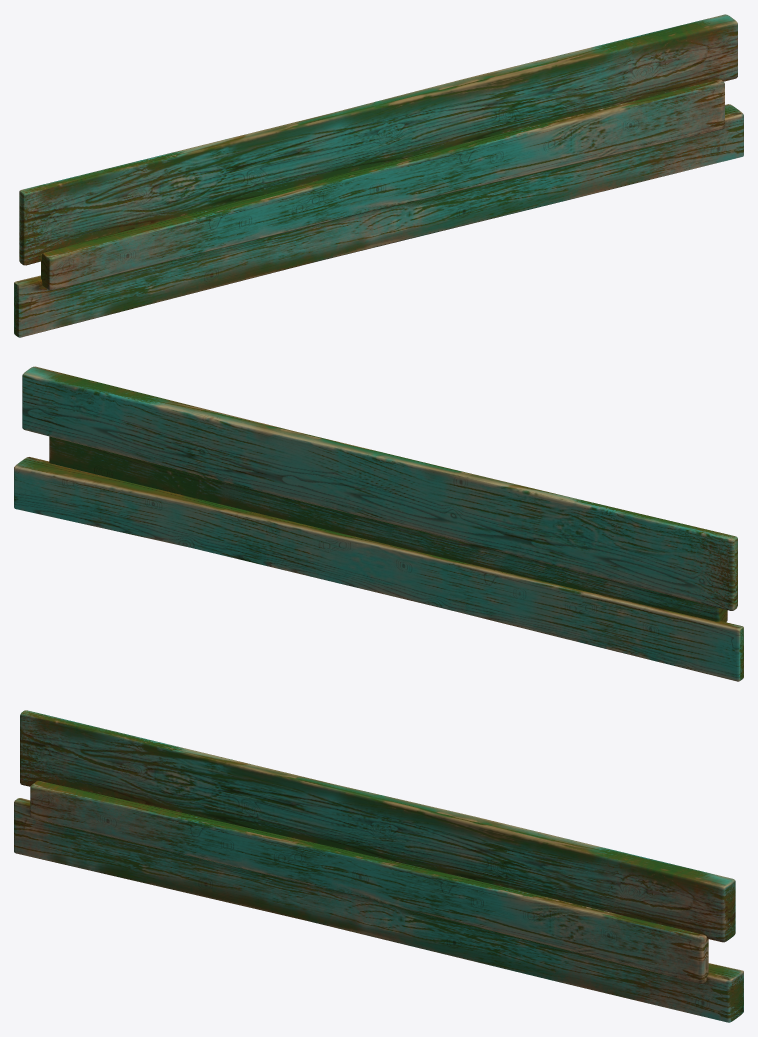
The model's file is SM_ShinglePlank.fbx.
3 views of the same model, one above another, from view 1: azimuth 30°, elevation 25°; view 2: azimuth 150°, elevation 25°; view 3: azimuth 330°, elevation 25° (orthographic).
Parts seen in each view (by area): view 1: SM_ShinglePlank_LOD0; view 2: SM_ShinglePlank_LOD0; view 3: SM_ShinglePlank_LOD0.
Part boxes in pixels (x1=…): SM_ShinglePlank_LOD0: x1=14, y1=14, x2=743, y2=337; SM_ShinglePlank_LOD0: x1=14, y1=366, x2=743, y2=681; SM_ShinglePlank_LOD0: x1=14, y1=710, x2=743, y2=1022.
Bounding box in the file's own units: 724 × 39.36 × 136.
1 material, 1 textured.
